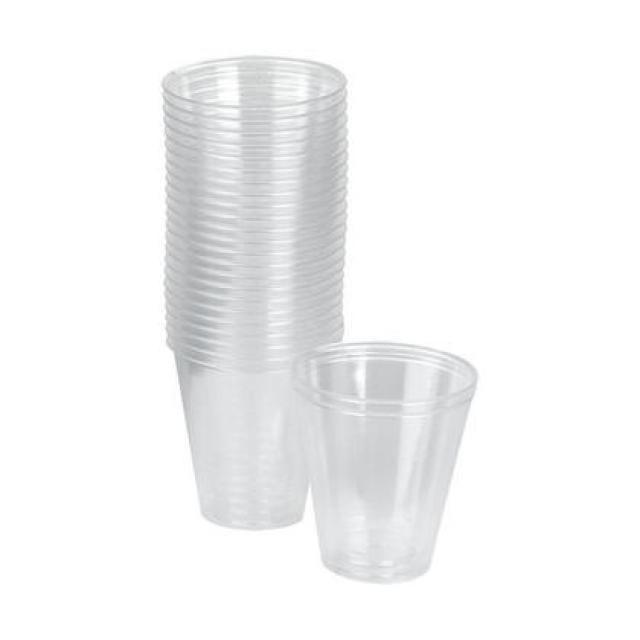Plastic: (155, 54, 349, 530), (301, 332, 474, 582)
